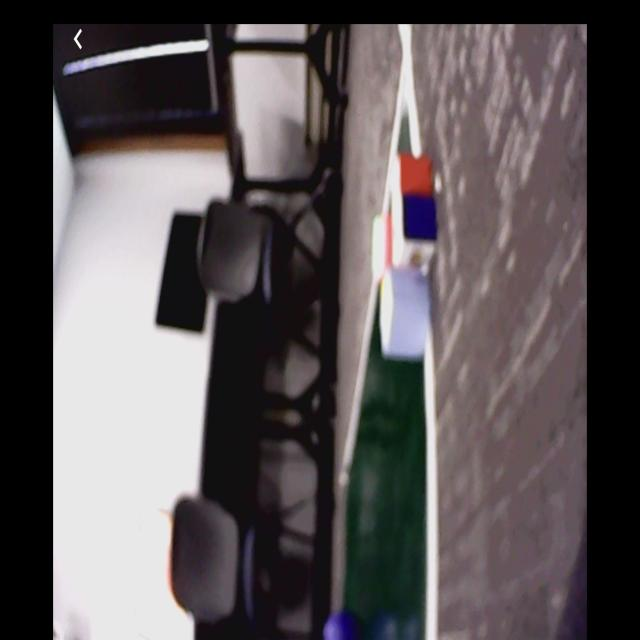ball: (320, 608, 363, 640)
